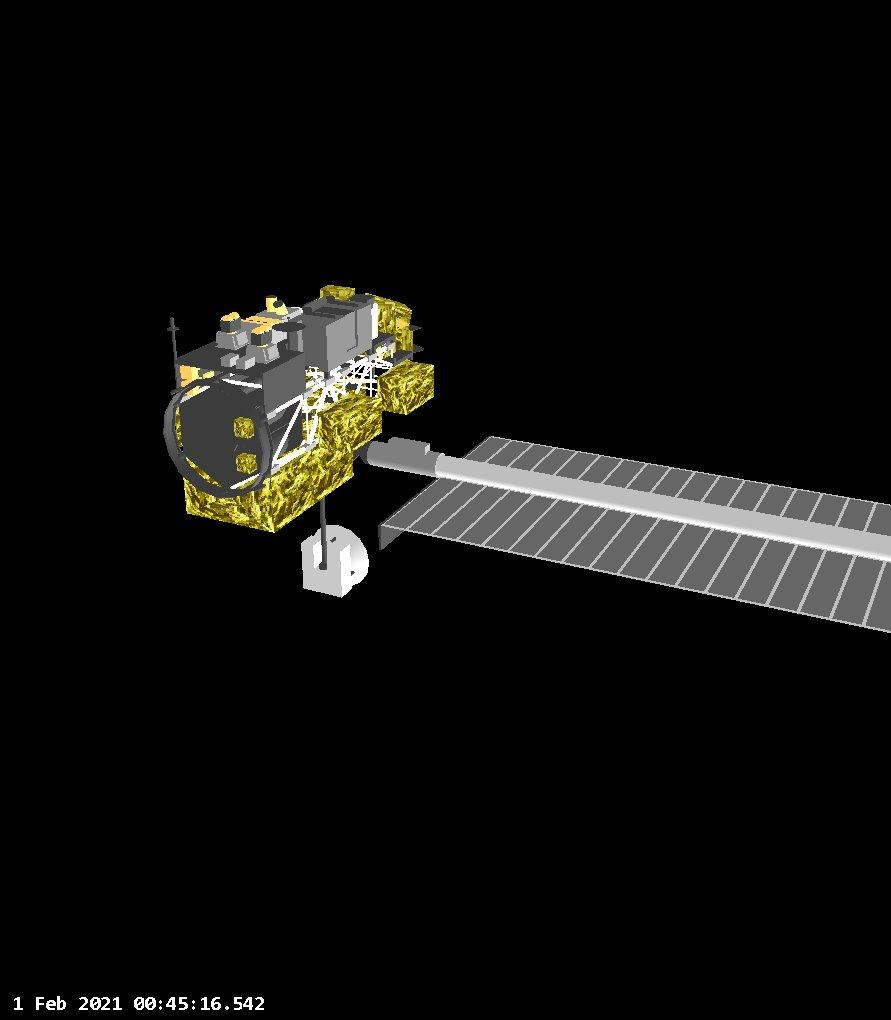antenna: (289, 509, 378, 608), (156, 311, 189, 385)
body: (159, 275, 436, 533)
solar: (370, 420, 891, 641)
